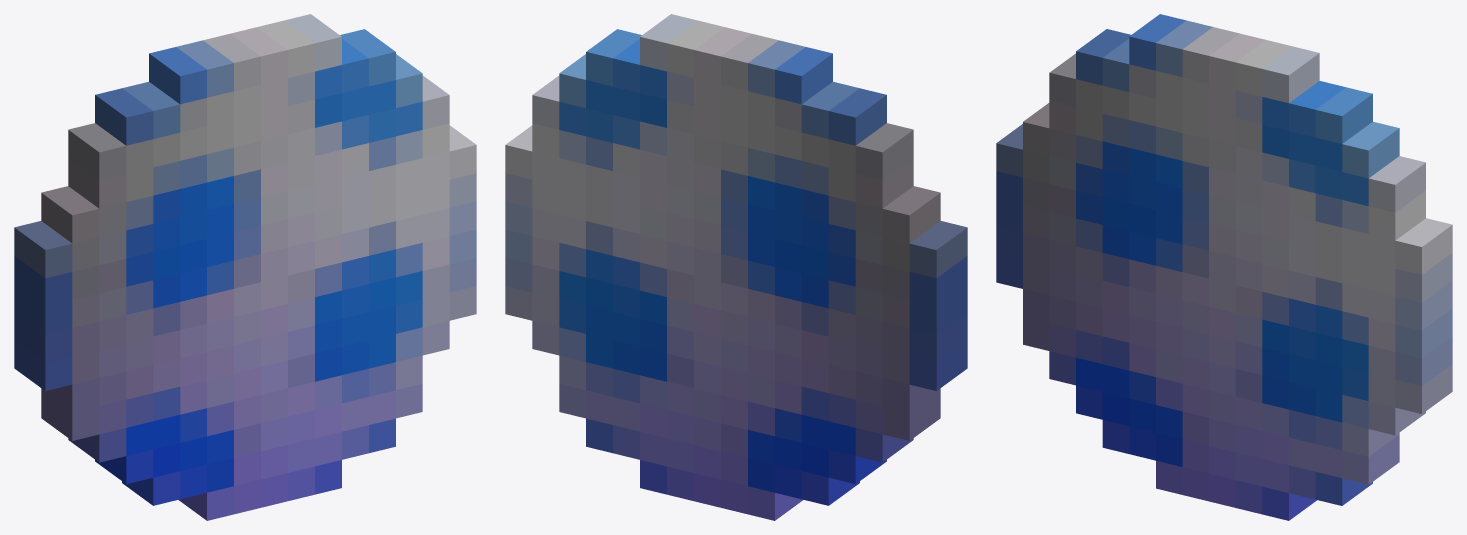
Rendered from soccer-ball.glb.
The picture shows the model from 3 angles, left to right: view 1: azimuth 30°, elevation 25°; view 2: azimuth 150°, elevation 25°; view 3: azimuth 330°, elevation 25°; orthographic projection.
Parts seen in each view (by area): view 1: prop; view 2: prop; view 3: prop.
Boxes of the visible parts, x1=… form: prop: x1=14, y1=14, x2=476, y2=520; prop: x1=505, y1=14, x2=967, y2=520; prop: x1=996, y1=14, x2=1452, y2=520.
Bounding box in the file's own units: 16 × 16 × 2.
